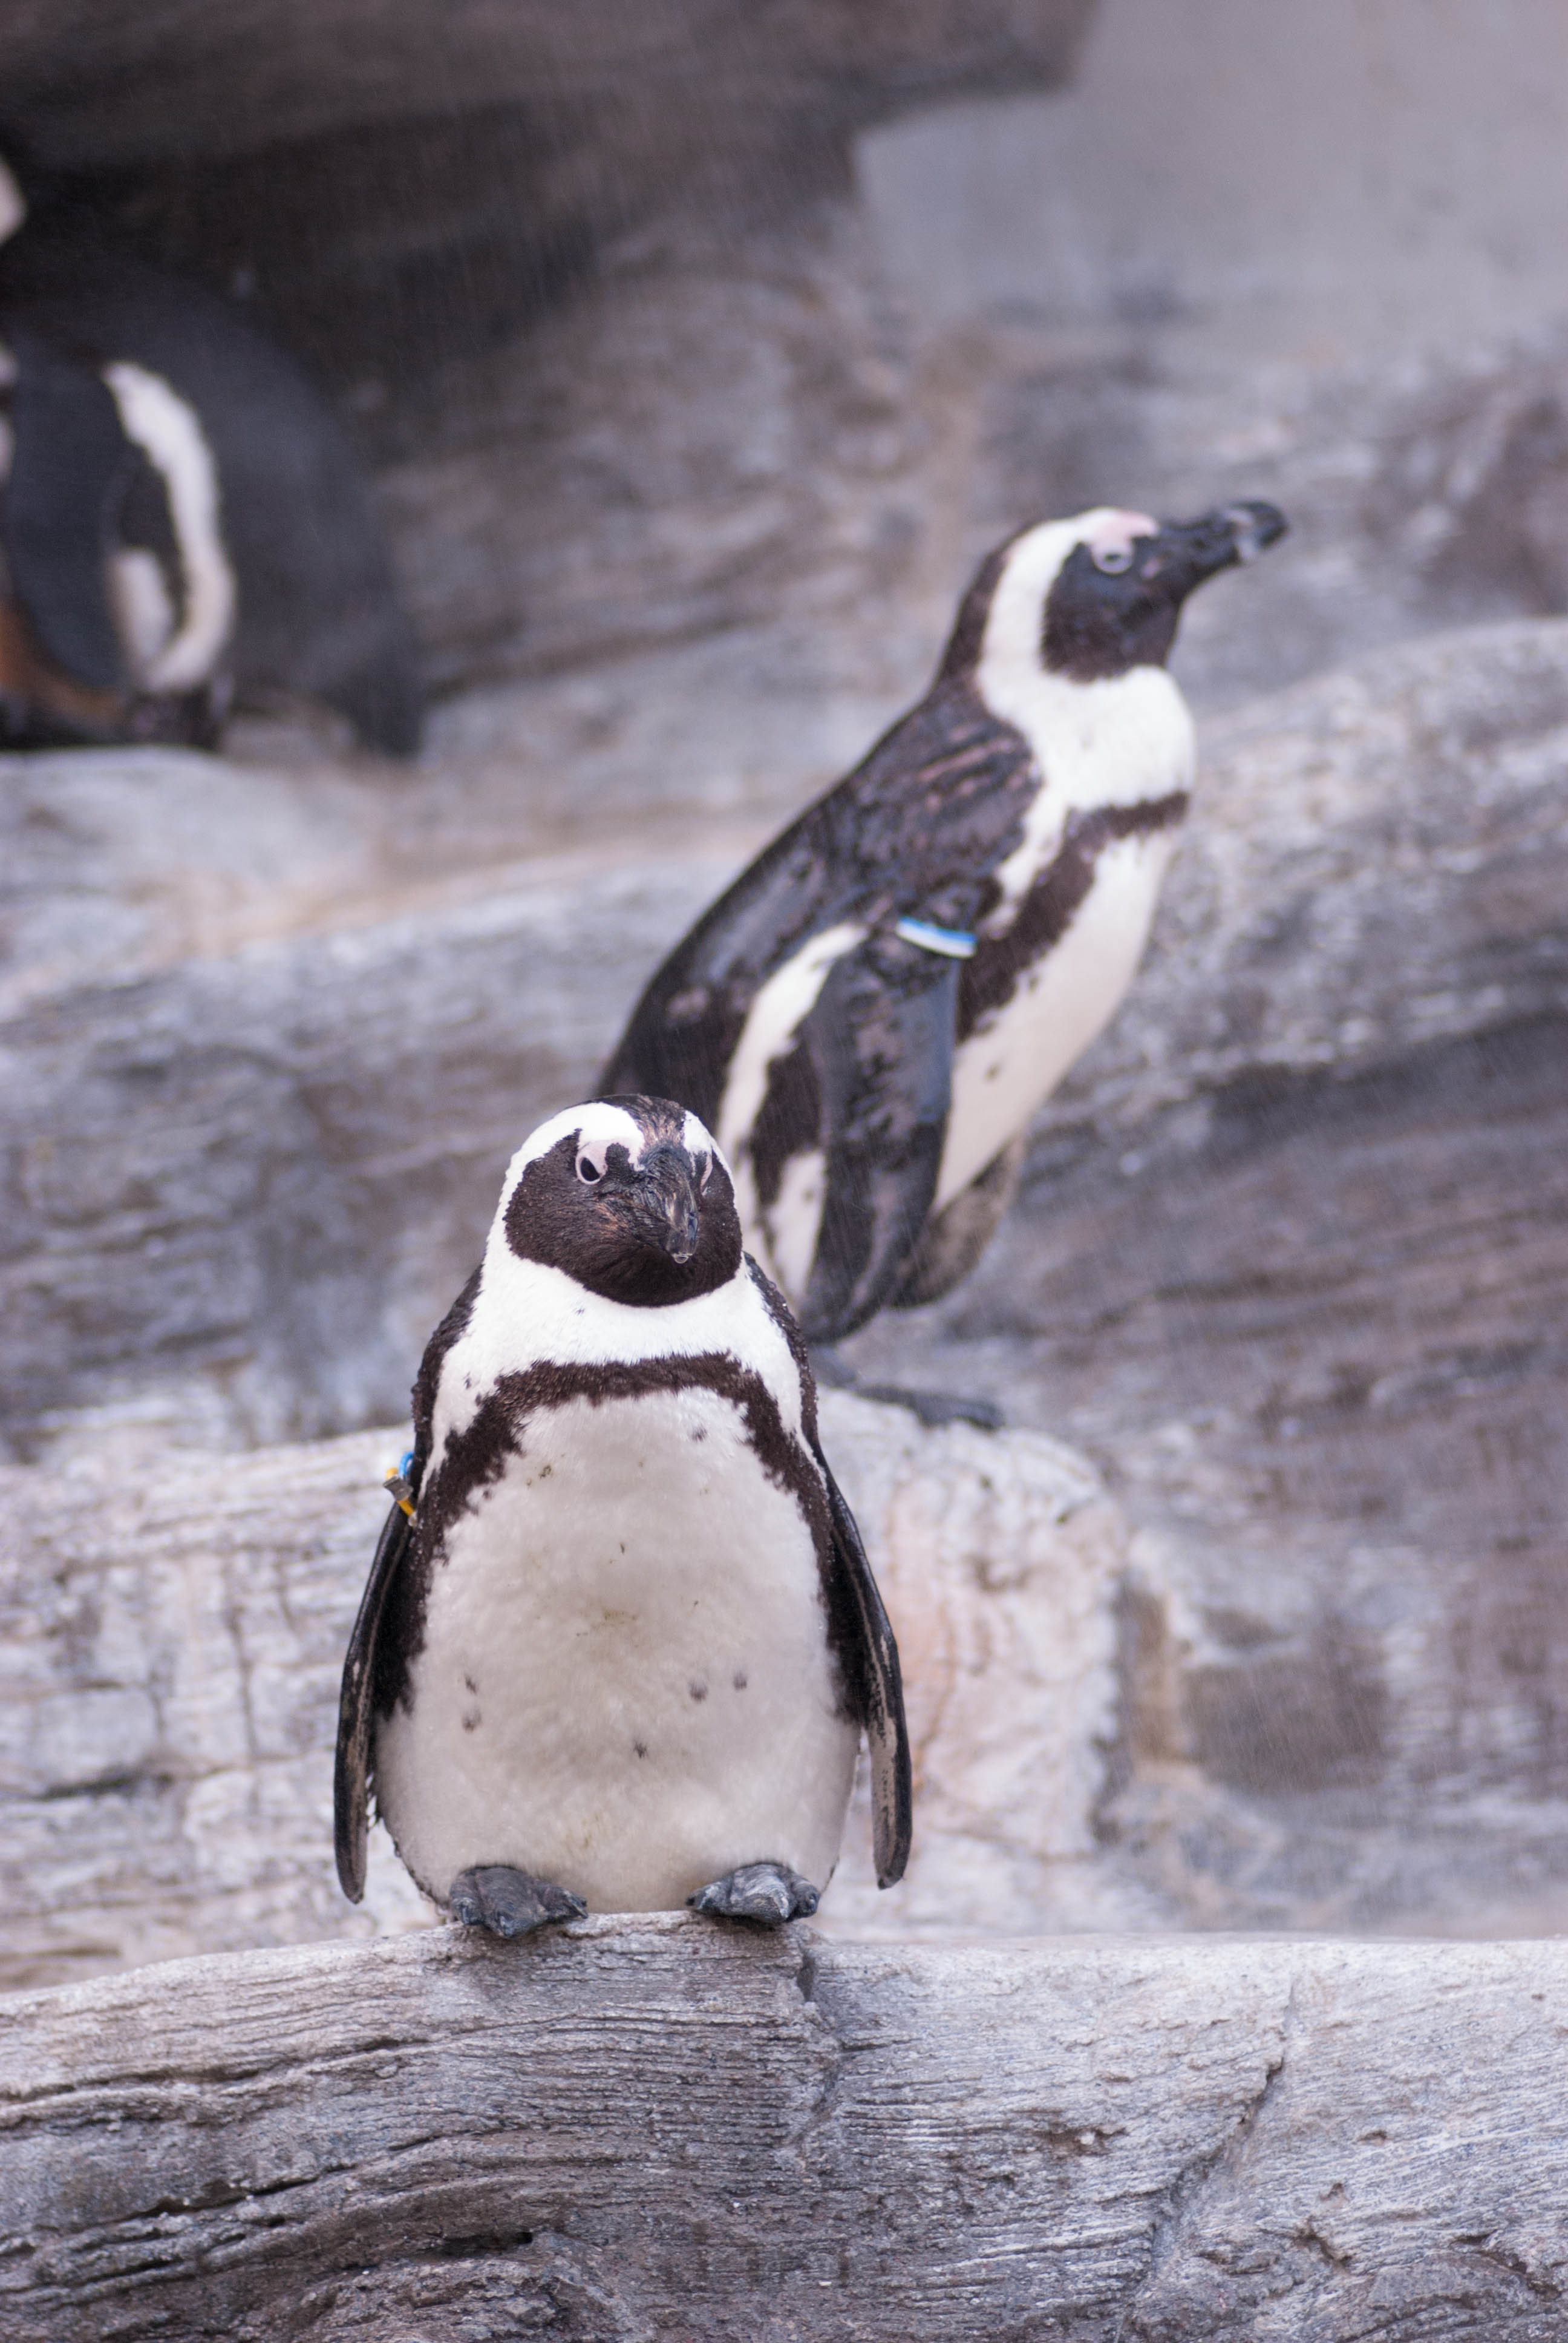penguin: (626, 490, 1295, 1295), (324, 1081, 919, 1965)
